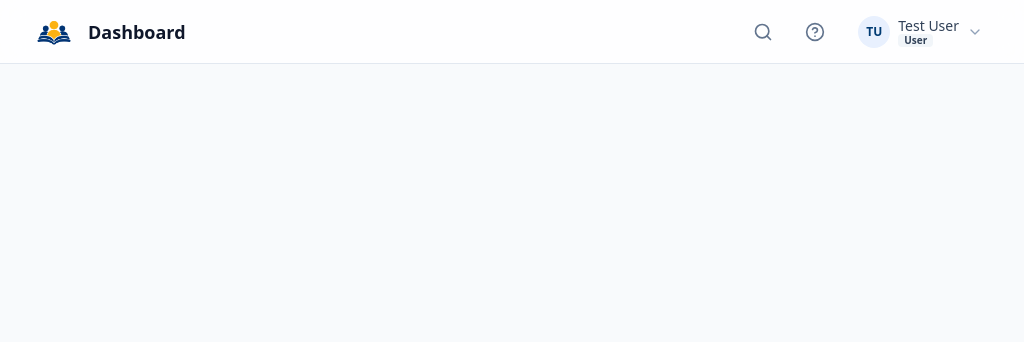
Test case: Profile dropdown sign out › shows a failure and allows the user to retry
Step 1. Click the button "TU Test User User" → (921, 32), box x1=849 y1=8 x2=992 y2=54
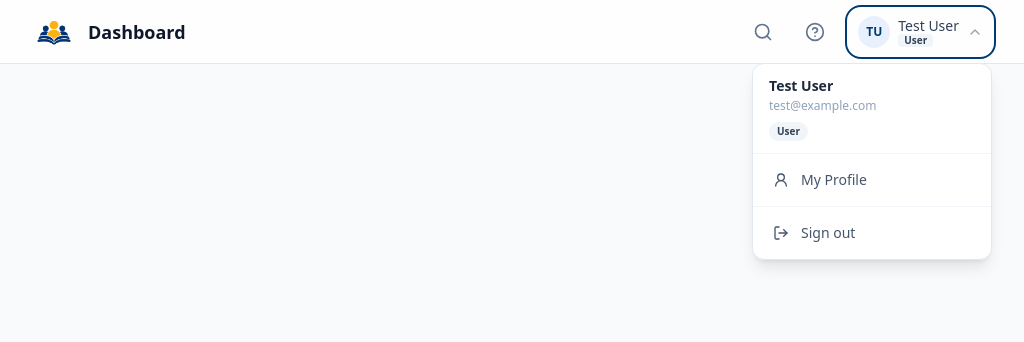
Step 2. Click the menu item "Sign out" → (872, 232), box x1=761 y1=214 x2=983 y2=250
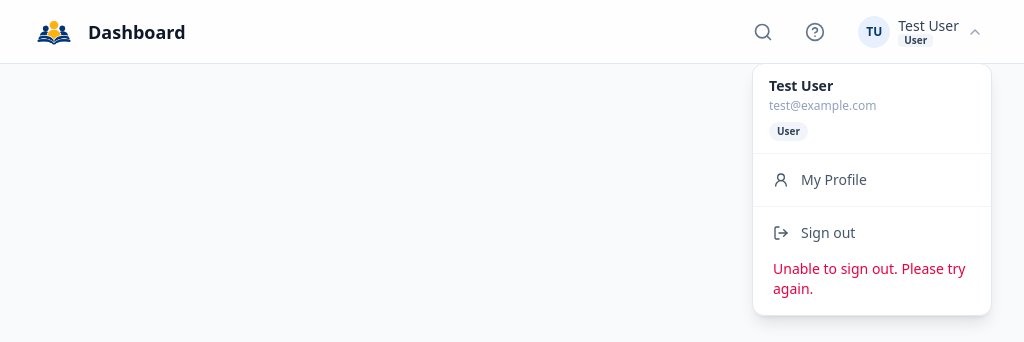
Now the message shows "Unable to sign out", box x1=773 y1=258 x2=966 y2=298
Step 3. Click the menu item "Sign out" → (872, 232), box x1=761 y1=214 x2=983 y2=250
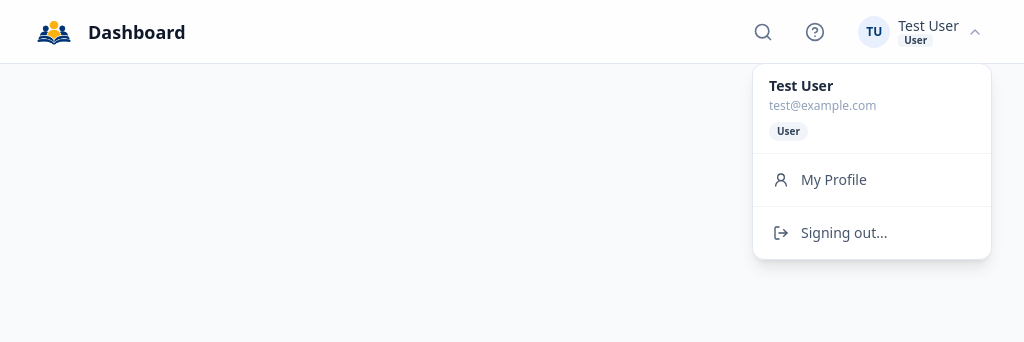
Now the message "Unable to sign out. Please try again." is gone
